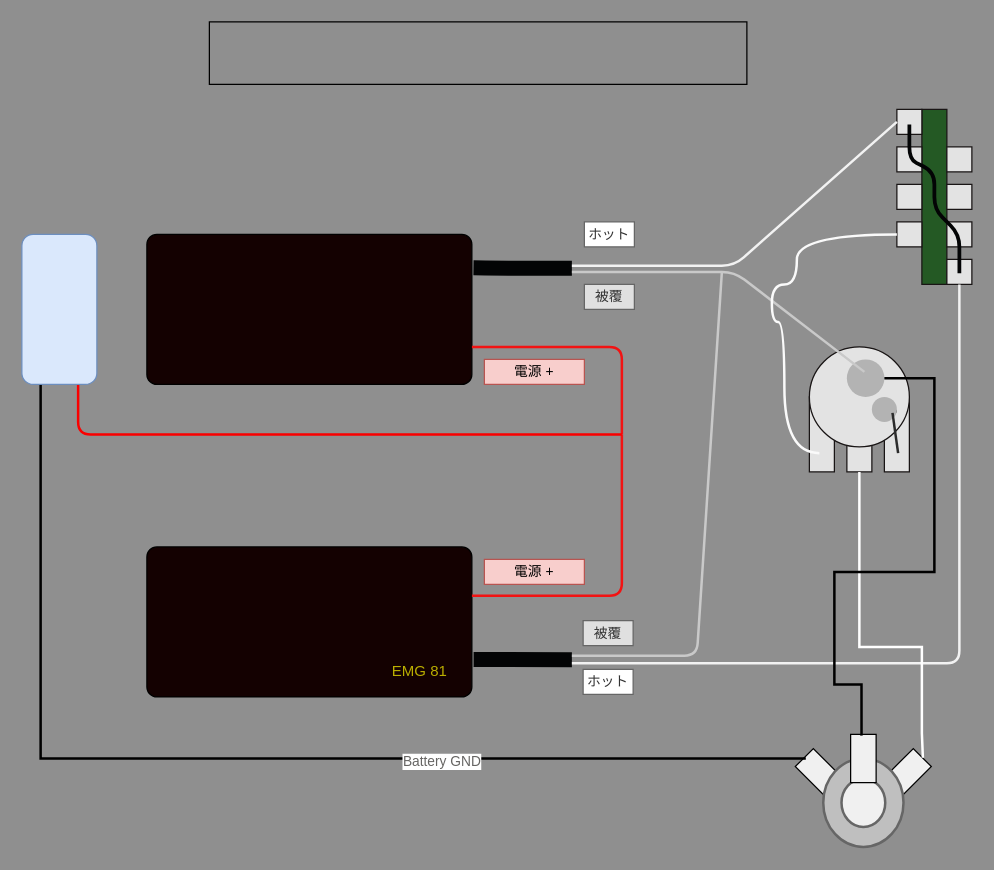
The diagram is 994 pixels wide and 870 high, and some of its shapes have lost their labels. The centre of each missing label's shape, as x and y in pixels:
"9V" belongs at (x=59, y=308).
"EMG 85" belongs at (x=309, y=308).
"EMG 85 / 81 1volume 3way" belongs at (x=477, y=52).
